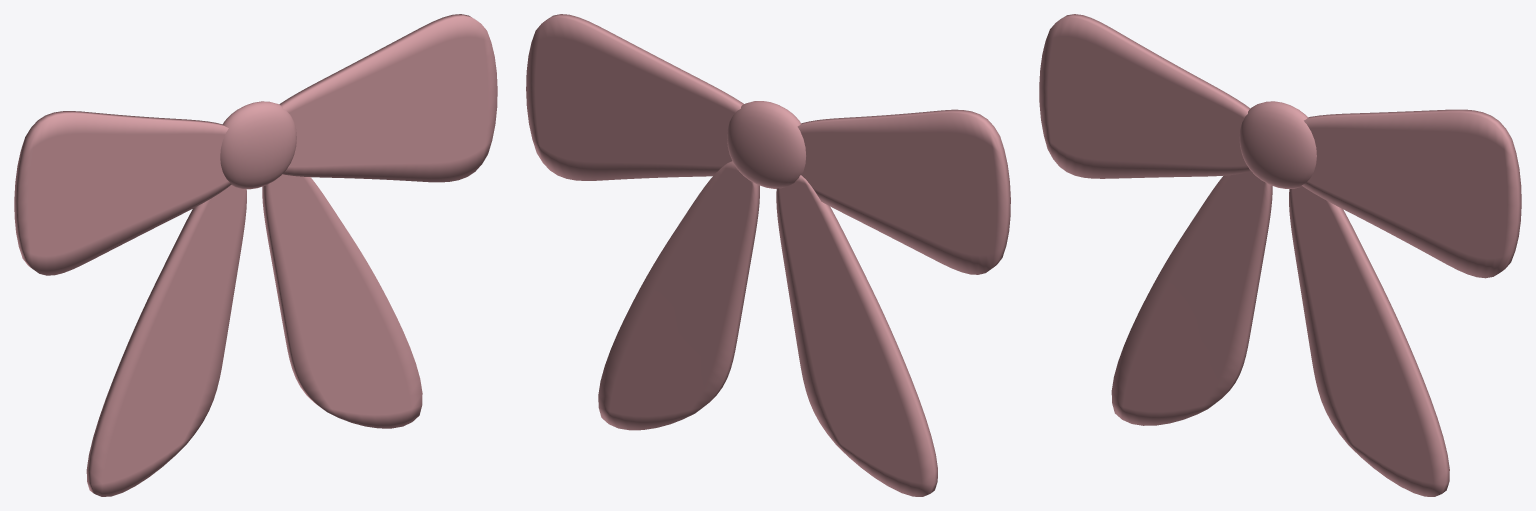
File: pink-bow.glb
3 views of the same model, side by side, from view 1: azimuth 30°, elevation 25°; view 2: azimuth 150°, elevation 25°; view 3: azimuth 330°, elevation 25° (orthographic).
Parts seen in each view (by area): view 1: Plane.002; view 2: Plane.002; view 3: Plane.002.
Boxes of the visible parts, x1=… form: Plane.002: x1=14, y1=14, x2=497, y2=496; Plane.002: x1=526, y1=14, x2=1010, y2=496; Plane.002: x1=1039, y1=14, x2=1521, y2=496.
Size of the model in its own units: 9.99 by 7.9 by 0.6807.
